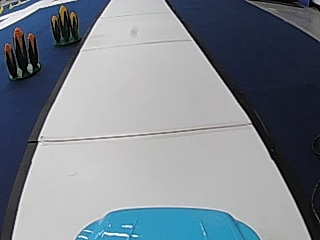corn: (4, 26, 41, 80), (49, 3, 81, 46)
